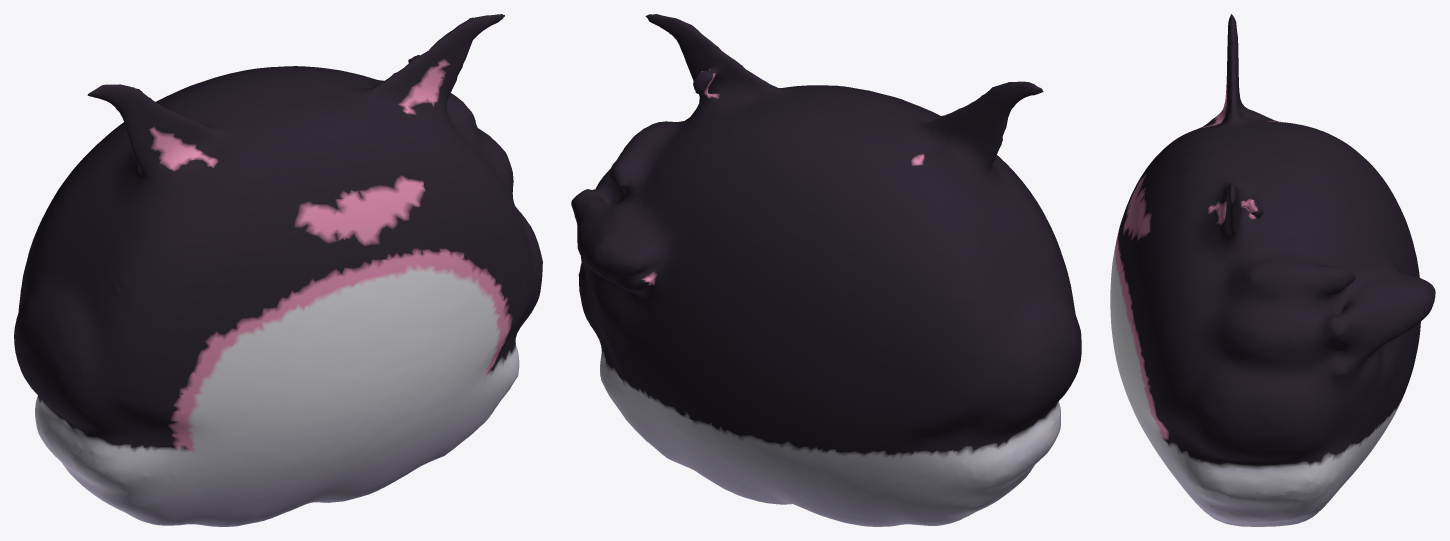
Rendered from sheep-hood.glb.
The picture shows the model from 3 angles, left to right: view 1: azimuth 30°, elevation 25°; view 2: azimuth 150°, elevation 25°; view 3: azimuth 270°, elevation 25°; orthographic projection. The views are drawn at different scales.
Bounding box in the file's own units: 1.26 × 1.17 × 0.8816.
